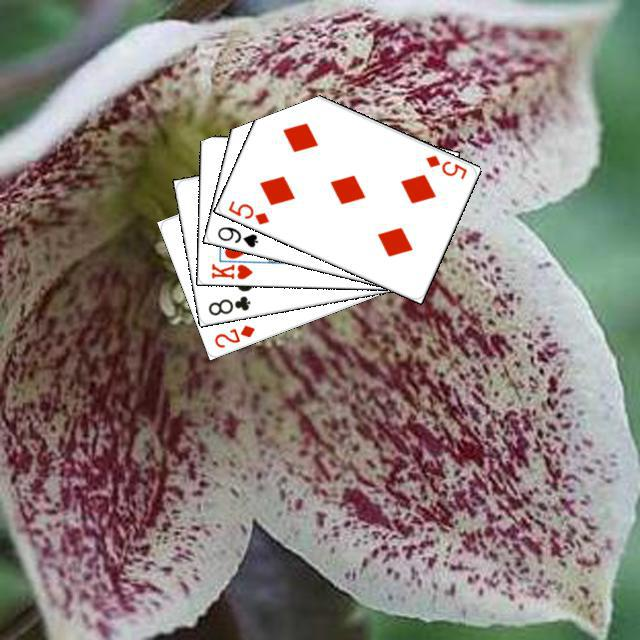2d: (209, 320, 257, 350)
5d: (420, 150, 469, 181), (223, 195, 271, 226)
8c: (203, 291, 252, 317)
9s: (212, 221, 260, 249)
Kh: (206, 253, 258, 281)
